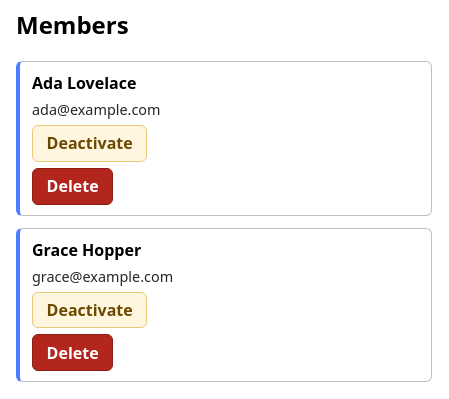
Test: MembersPage › marks the row inactive in place when the deactivate succeeds
Expected: the text "Ada Lovelace" is shown, [32, 72, 136, 94]
Click the button "Deactivate" below "Ada Lovelace": (90, 143) [32, 125, 147, 162]
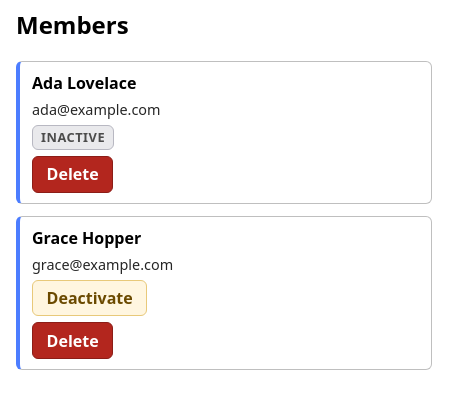
Expected: the list item "Inactive" shows "Ada Lovelace", [32, 72, 136, 94]
Expected: the number of buttons "Deactivate" is 1, [32, 280, 147, 316]
